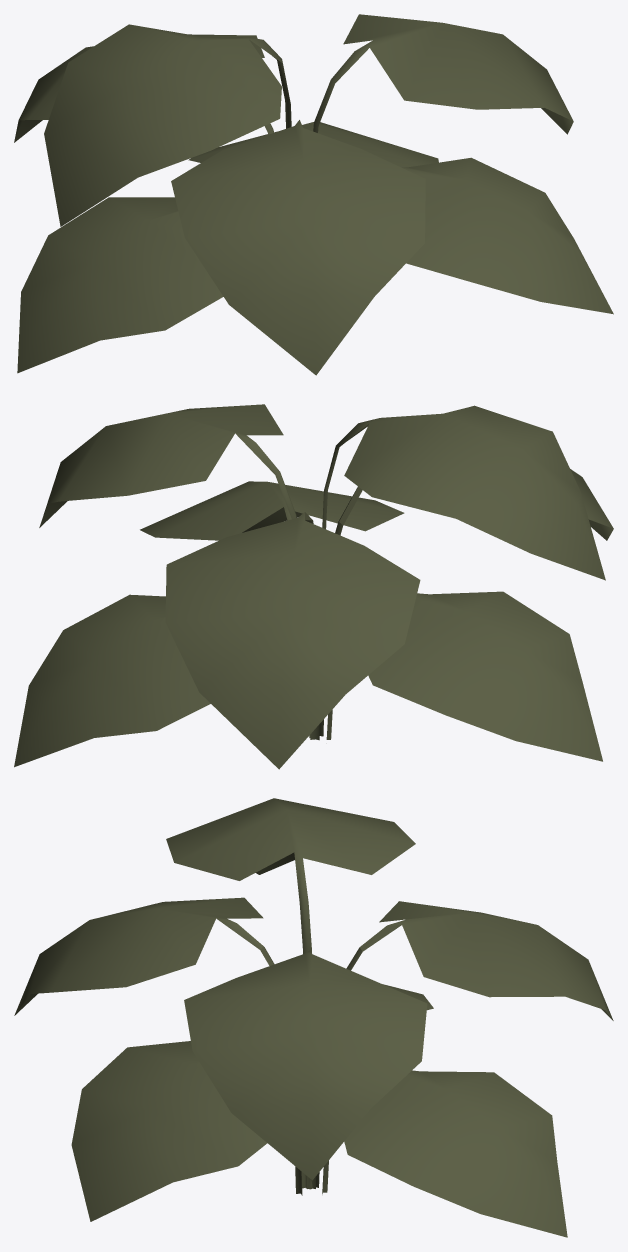
Rendered from SM_shrub_02.FBX.
3 views of the same model, one above another, from view 1: azimuth 30°, elevation 25°; view 2: azimuth 150°, elevation 25°; view 3: azimuth 270°, elevation 25° (orthographic). The views are drawn at different scales.
Visible parts, largest first — view 1: SM_shrub_02_LOD0; view 2: SM_shrub_02_LOD0; view 3: SM_shrub_02_LOD0.
Boxes of the visible parts, x1=… form: SM_shrub_02_LOD0: x1=14, y1=14, x2=613, y2=375; SM_shrub_02_LOD0: x1=14, y1=404, x2=613, y2=769; SM_shrub_02_LOD0: x1=14, y1=798, x2=613, y2=1237.
Size of what is drawn, in the model's own units: 196 by 192 by 115.
